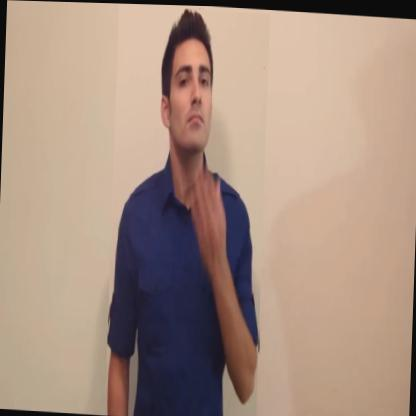ThankYou: (104, 3, 270, 416)
